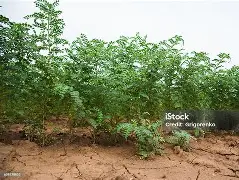crops: (0, 0, 235, 150), (1, 145, 145, 180), (115, 116, 191, 158), (65, 88, 100, 142), (21, 122, 57, 144), (114, 121, 134, 136), (147, 119, 163, 134), (92, 110, 107, 125)
